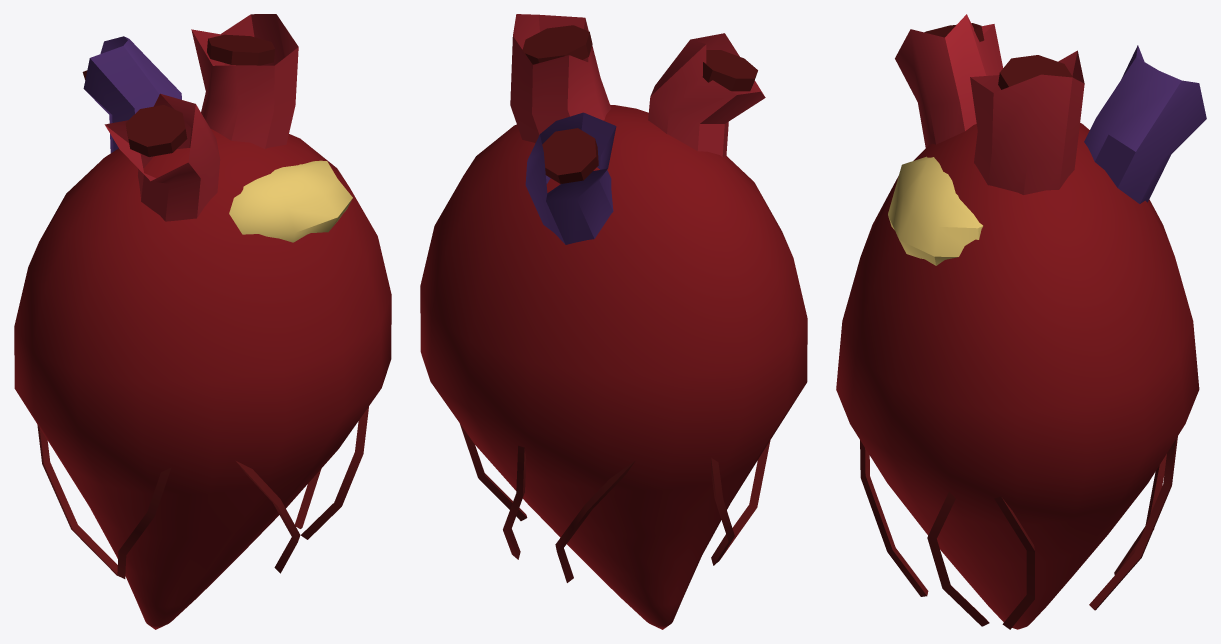
File: organ_heart.glb
3 renders of one model, left to right at view 1: azimuth 30°, elevation 25°; view 2: azimuth 150°, elevation 25°; view 3: azimuth 270°, elevation 25°, orthographic. The views are drawn at different scales.
Parts seen in each view (by area): view 1: organ_heart; view 2: organ_heart; view 3: organ_heart.
Part boxes in pixels (bbox=[...]): organ_heart: bbox=[14, 14, 391, 629]; organ_heart: bbox=[420, 14, 807, 629]; organ_heart: bbox=[836, 14, 1206, 629].
Size of the model in its own units: 0.0746 by 0.1203 by 0.0647.
